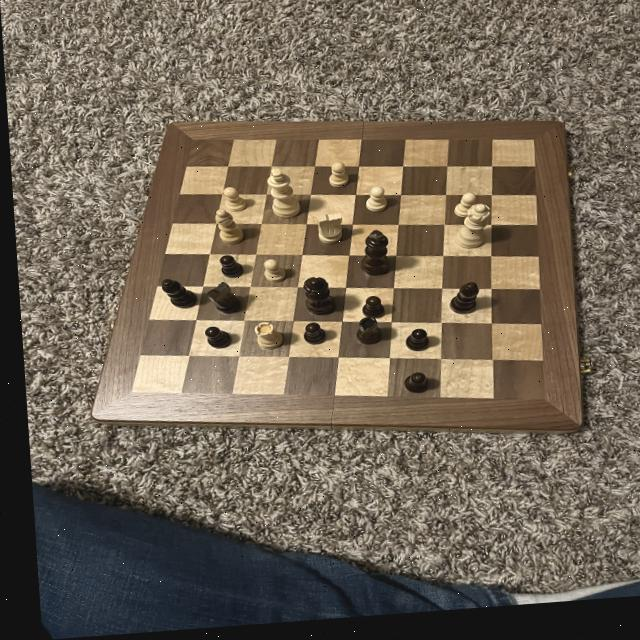bishop: (150, 275, 202, 316), (440, 286, 486, 328)
black-bishop: (352, 233, 394, 285)
black-king: (197, 282, 247, 323)
black-knight: (195, 325, 231, 357), (294, 325, 330, 353), (213, 256, 245, 285), (354, 298, 385, 327), (396, 377, 429, 403), (396, 333, 429, 358)
black-pawn: (292, 276, 339, 325)
black-queen: (346, 320, 385, 353)
black-rook: (206, 208, 248, 252)
white-bishop: (261, 171, 301, 227)
white-king: (309, 216, 344, 251)
white-knight: (446, 197, 484, 226), (358, 190, 390, 220), (217, 187, 247, 218), (256, 259, 286, 290), (323, 164, 350, 196)
white-pawn: (446, 207, 490, 259)
white-queen: (245, 322, 284, 359)
